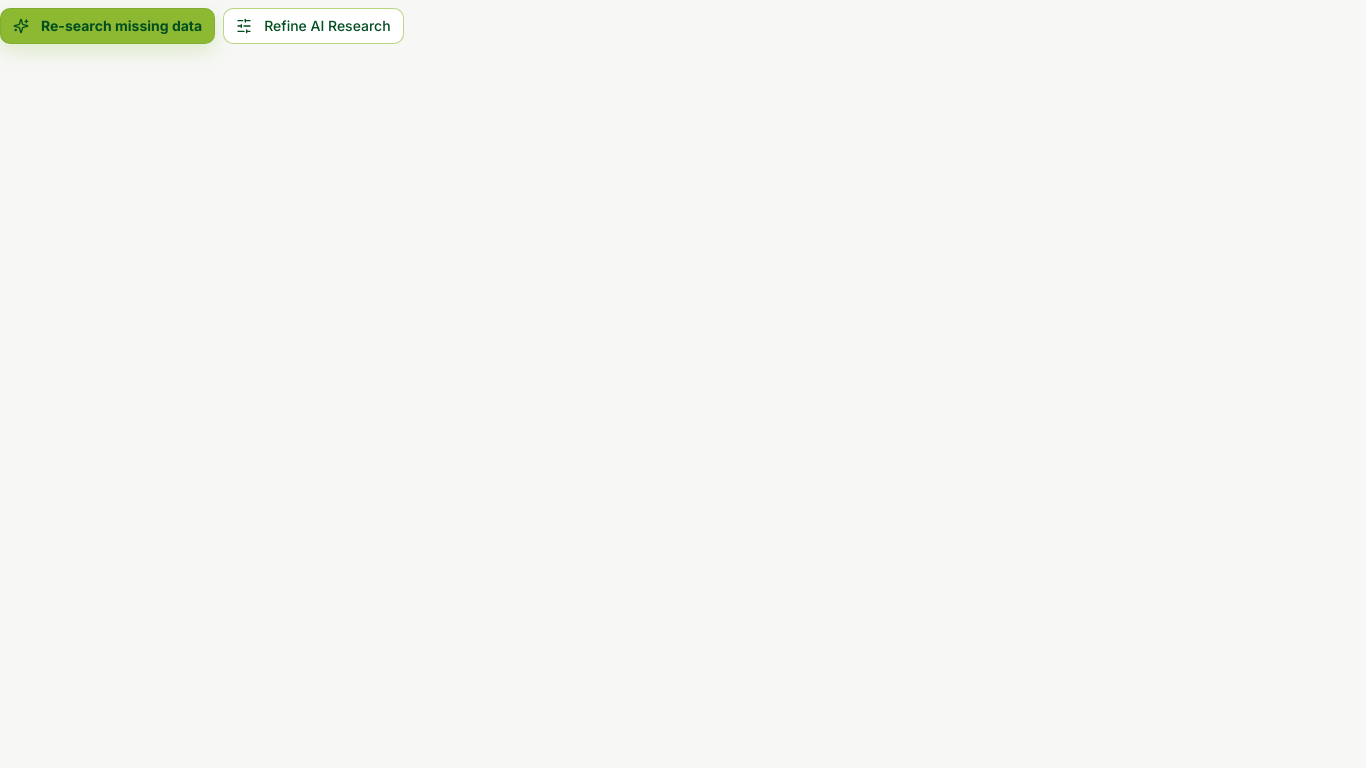
V3 re-search lifecycle › different_registered_product shows the server message and separate discovery, not generic failure
Click the button "Re-search missing data": point(108, 26) [0,8,215,44]
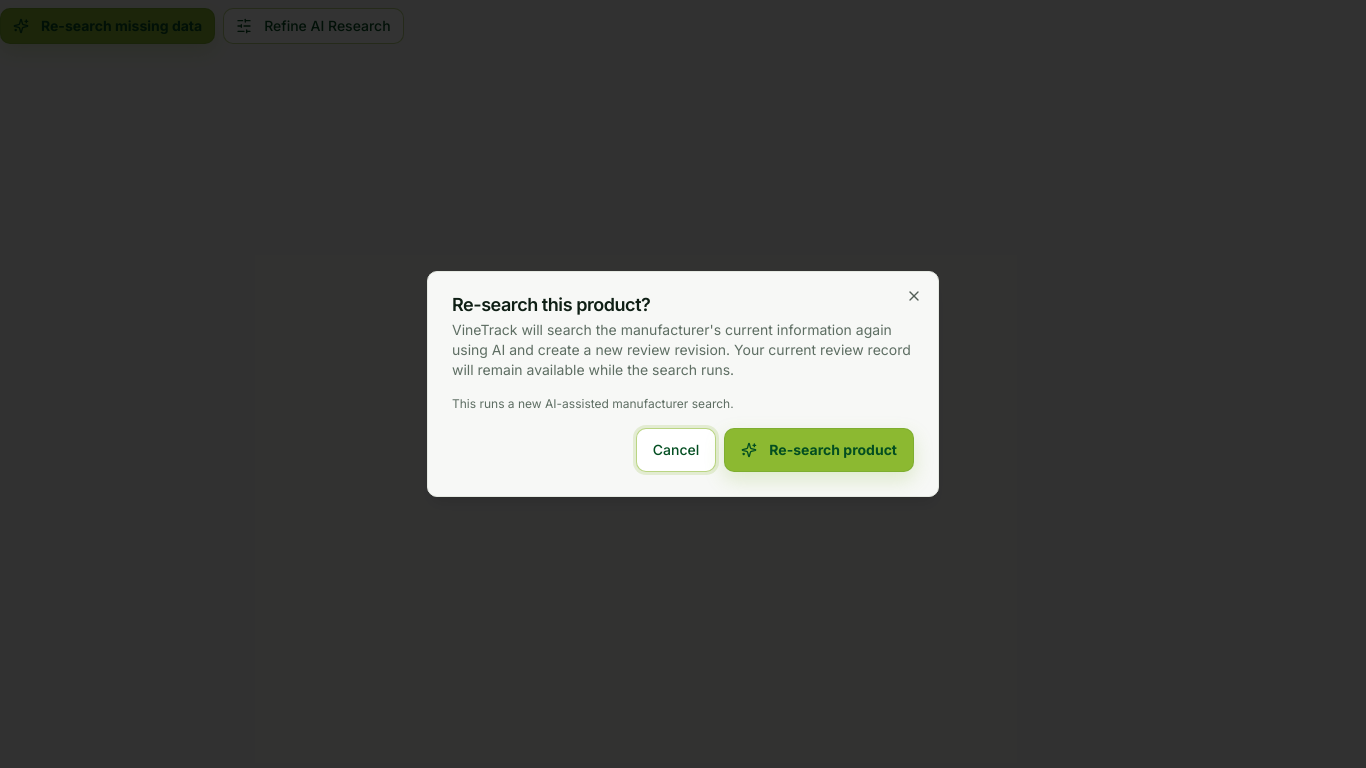
Click the button "Re-search product": point(819, 450) [724,428,914,472]
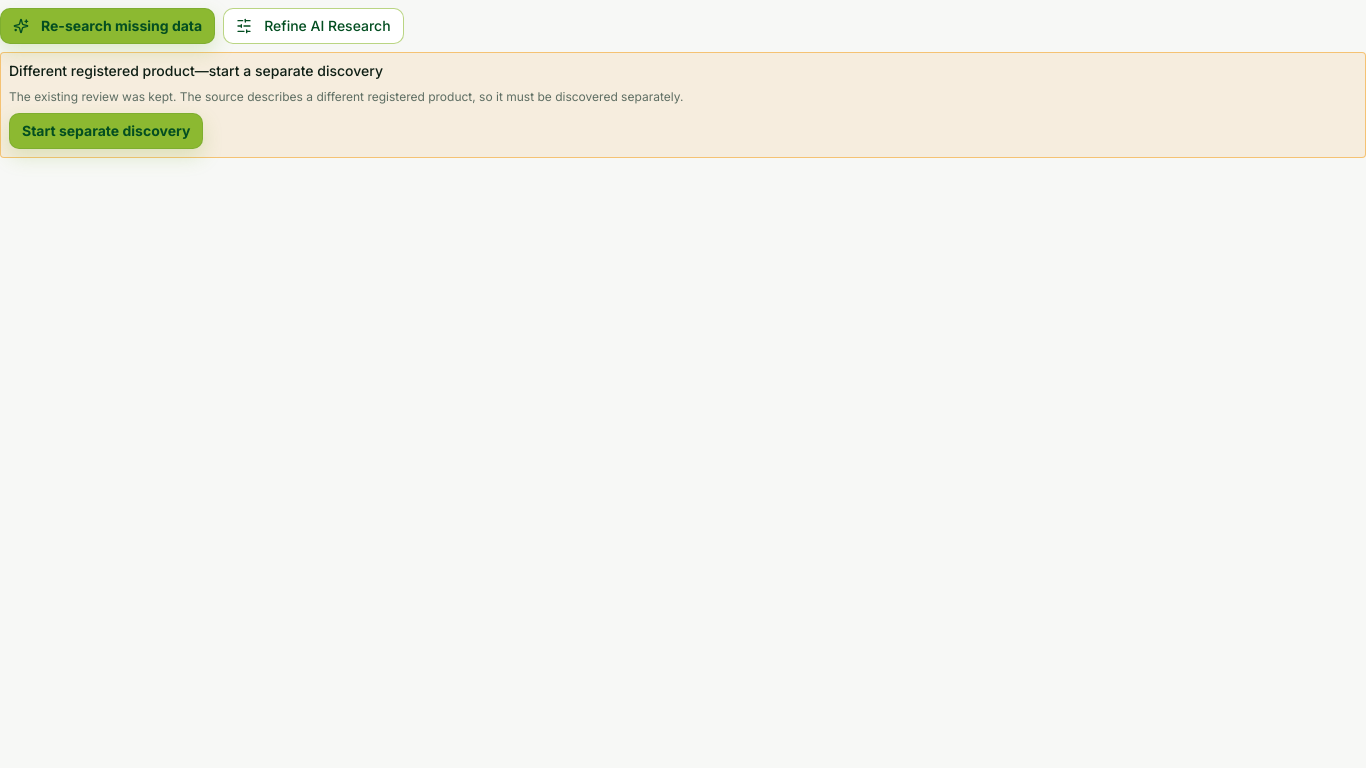
Check: the text "Different registered product—start a separate discovery" is shown, box [9,62,383,79]
Click the button "Start separate discovery": point(106, 131) [9,113,203,149]
(page scrolled)
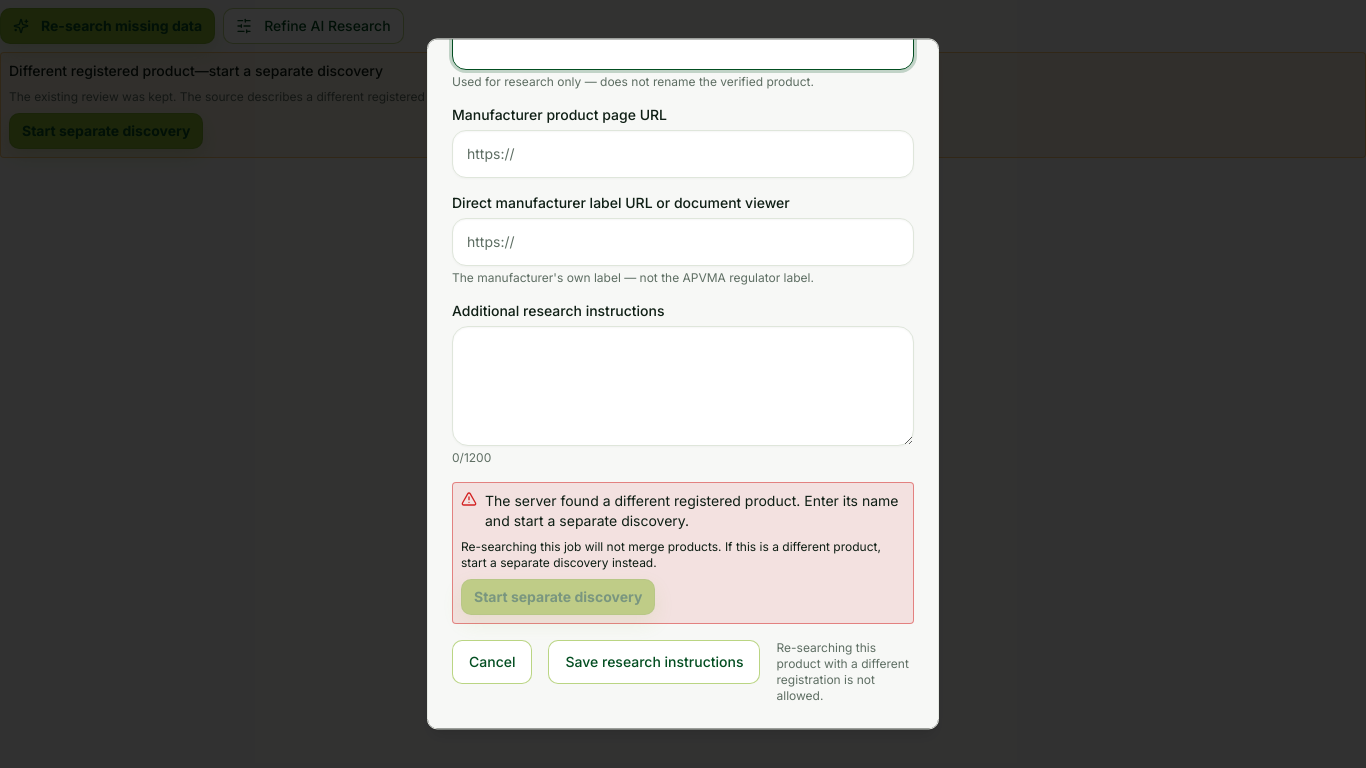
Check: the element with test id "v3-hints-identity-warning" is shown, box [452,482,914,624]
